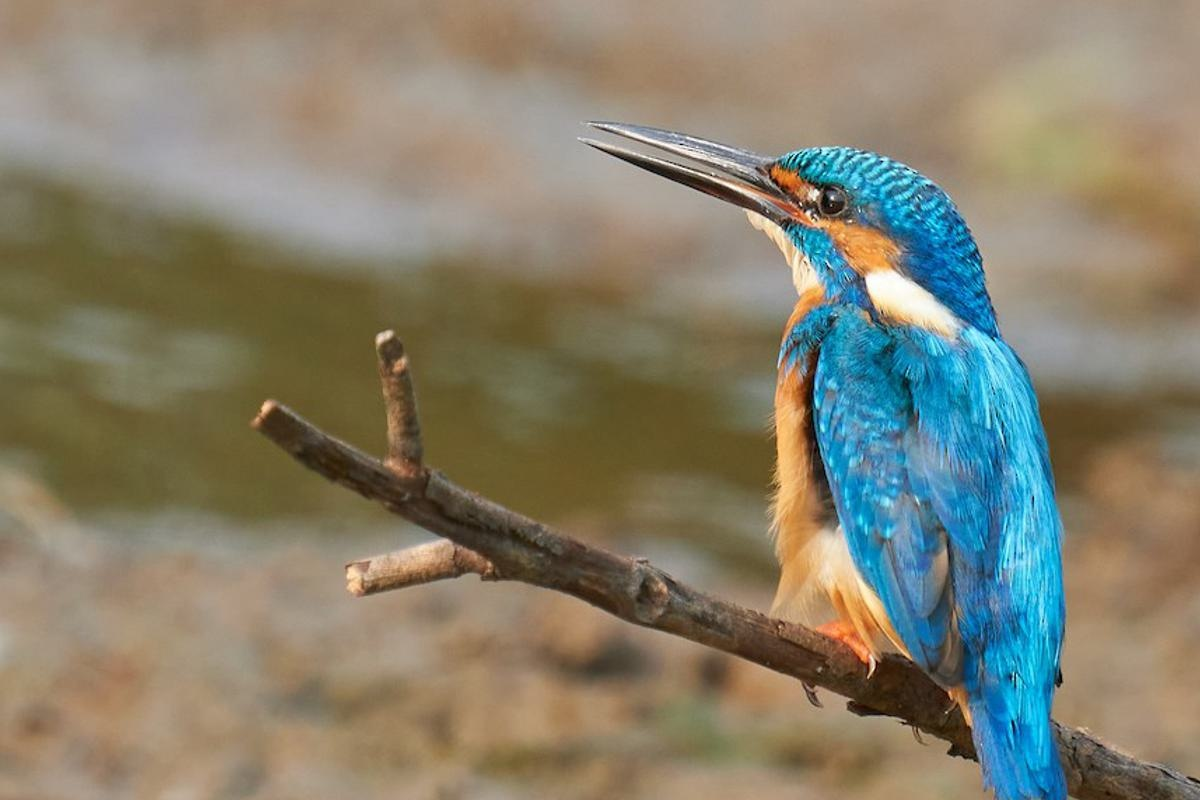kingfisher: (579, 87, 1060, 794)
